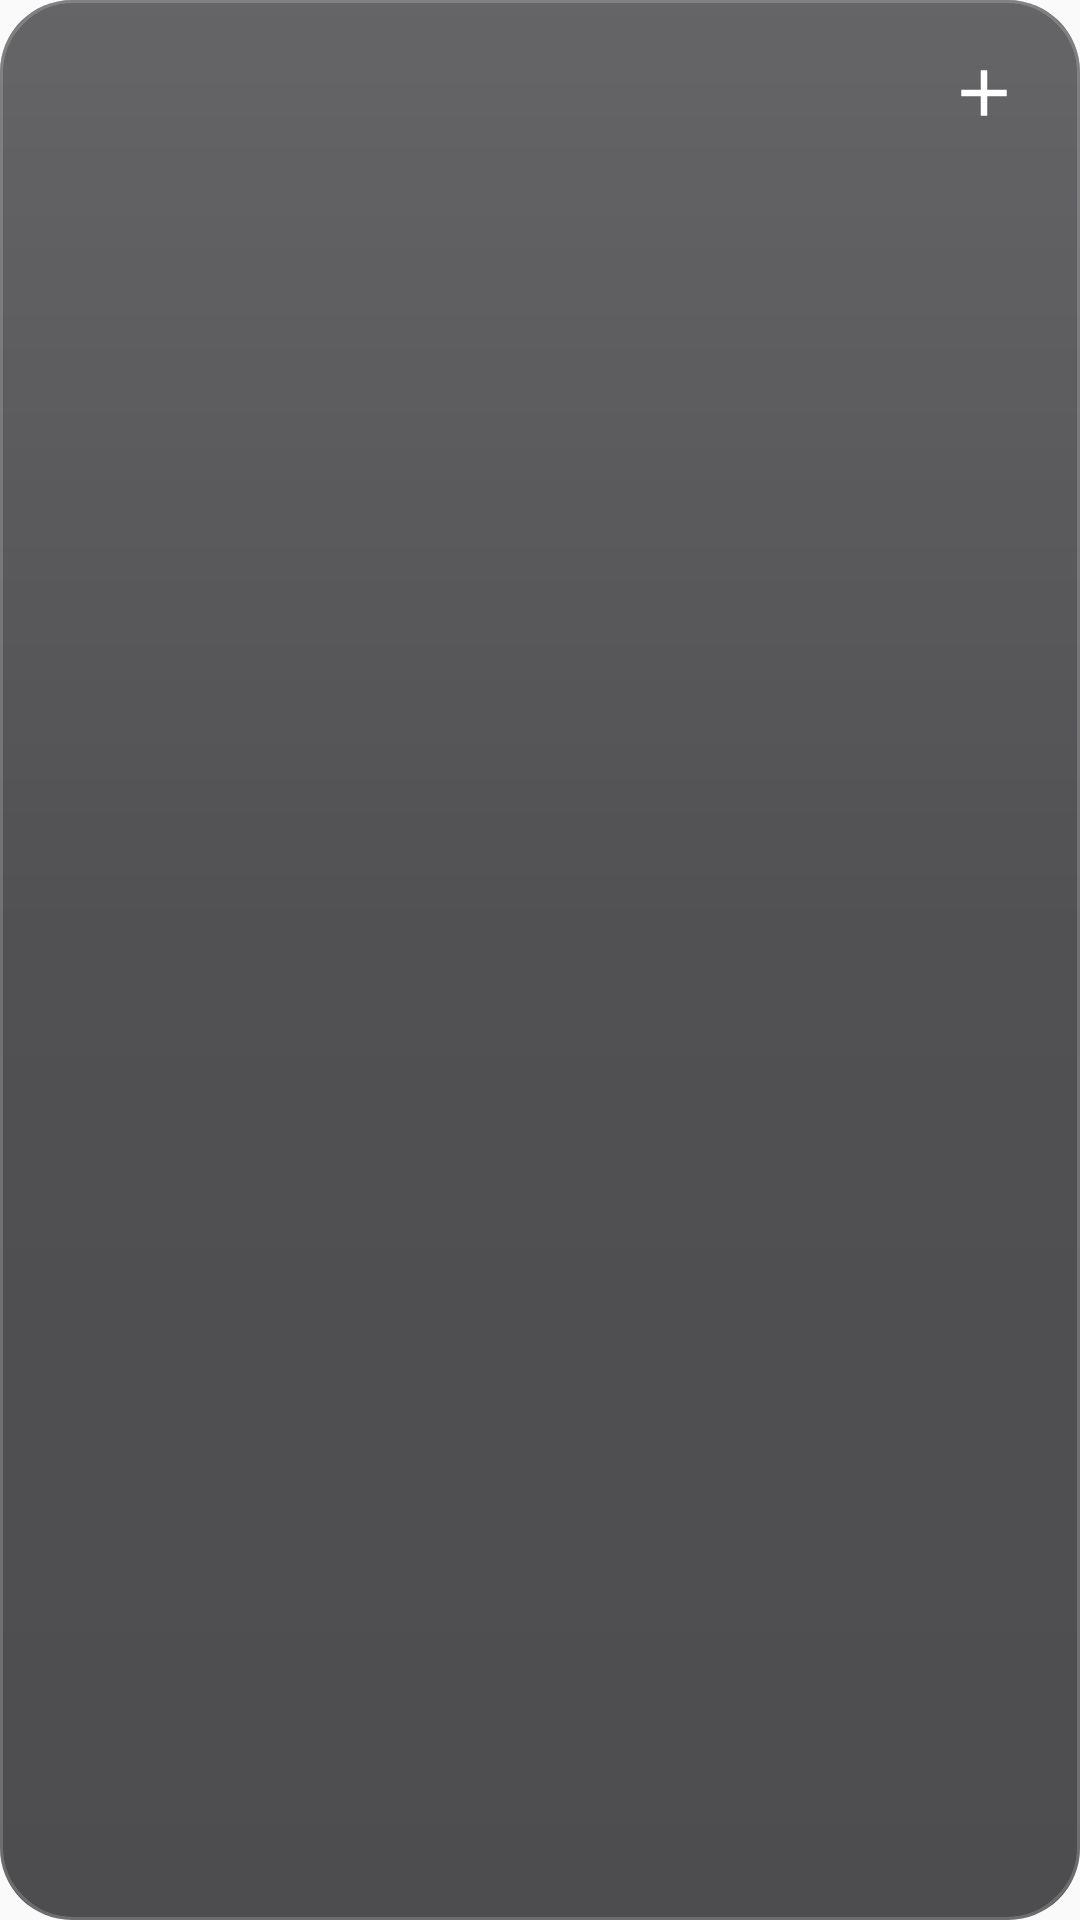

Icons on this 1080px×1920px Android screen, each with its box as detection(x1, y1, x2, y2):
Añadir: detection(961, 70, 1007, 116)
